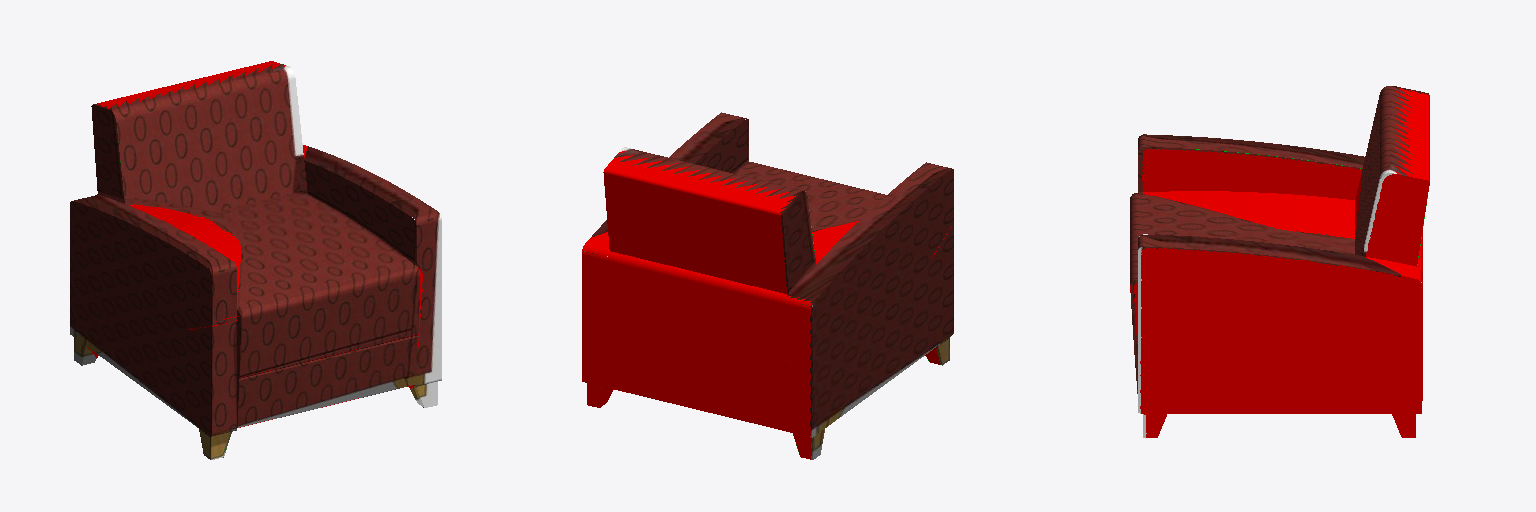
3 renders of one model, left to right at view 1: azimuth 30°, elevation 25°; view 2: azimuth 150°, elevation 25°; view 3: azimuth 270°, elevation 25°, orthographic.
Visible parts, largest first — view 1: Mesh2_Group3_Group1_Model, Mesh9_Group10_Group1_Model, Mesh5_Group6_Group1_Model, Mesh4_Group5_Group1_Model, Mesh8_Group9_Group1_Model; view 2: Mesh5_Group6_Group1_Model, Mesh9_Group10_Group1_Model, Mesh4_Group5_Group1_Model, Mesh2_Group3_Group1_Model, Mesh8_Group9_Group1_Model; view 3: Mesh4_Group5_Group1_Model, Mesh2_Group3_Group1_Model, Mesh9_Group10_Group1_Model, Mesh5_Group6_Group1_Model, Mesh8_Group9_Group1_Model.
Boxes of the visible parts, box(x1,y1,x2,y2) form: Mesh2_Group3_Group1_Model: box(176, 195, 420, 427); Mesh9_Group10_Group1_Model: box(70, 195, 236, 436); Mesh5_Group6_Group1_Model: box(91, 61, 307, 226); Mesh4_Group5_Group1_Model: box(303, 145, 441, 386); Mesh8_Group9_Group1_Model: box(74, 338, 437, 459); Mesh5_Group6_Group1_Model: box(603, 147, 815, 430); Mesh9_Group10_Group1_Model: box(786, 162, 953, 437); Mesh4_Group5_Group1_Model: box(582, 112, 748, 387); Mesh2_Group3_Group1_Model: box(733, 162, 886, 263); Mesh8_Group9_Group1_Model: box(587, 338, 949, 459); Mesh4_Group5_Group1_Model: box(1138, 234, 1421, 413); Mesh2_Group3_Group1_Model: box(1130, 191, 1354, 393); Mesh9_Group10_Group1_Model: box(1138, 134, 1364, 199); Mesh5_Group6_Group1_Model: box(1355, 86, 1429, 400); Mesh8_Group9_Group1_Model: box(1143, 414, 1415, 437).
Size of the model in its own units: 0.4638 by 0.4874 by 0.5224.
5 materials, 5 textured.